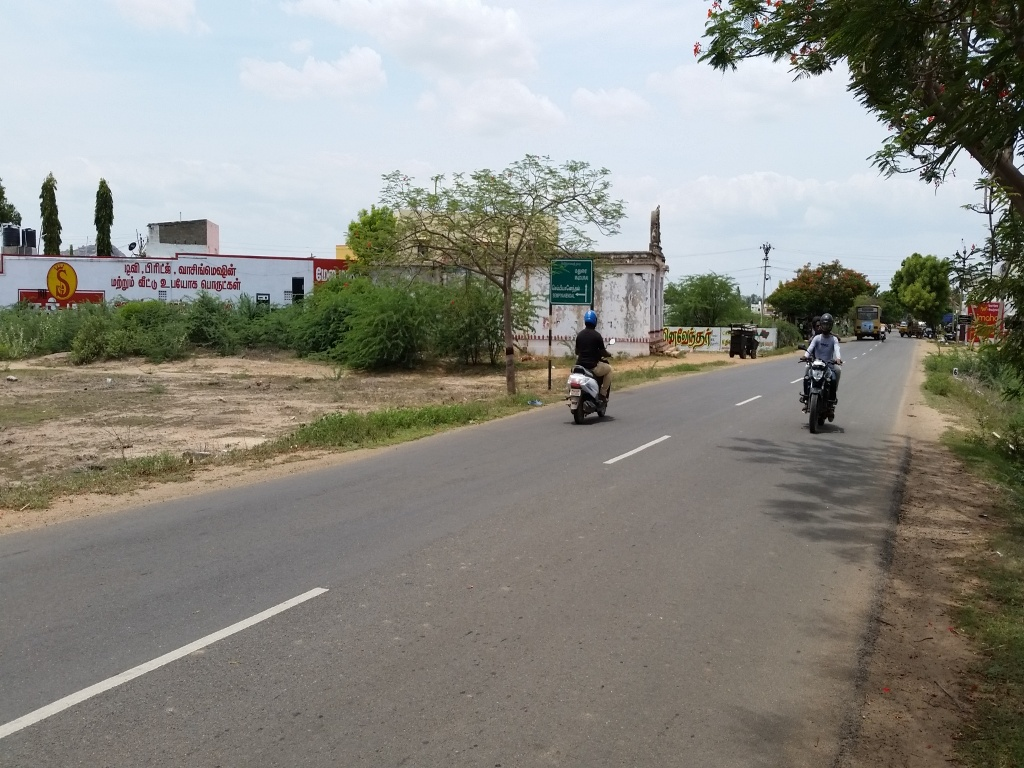biker: (551, 288, 632, 436), (781, 291, 862, 439)
helmet: (580, 305, 606, 340), (814, 303, 840, 338)
